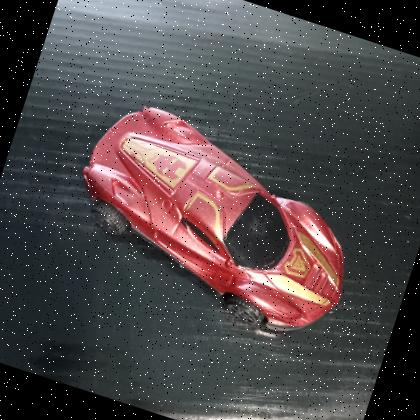Car: (49, 89, 384, 352)
